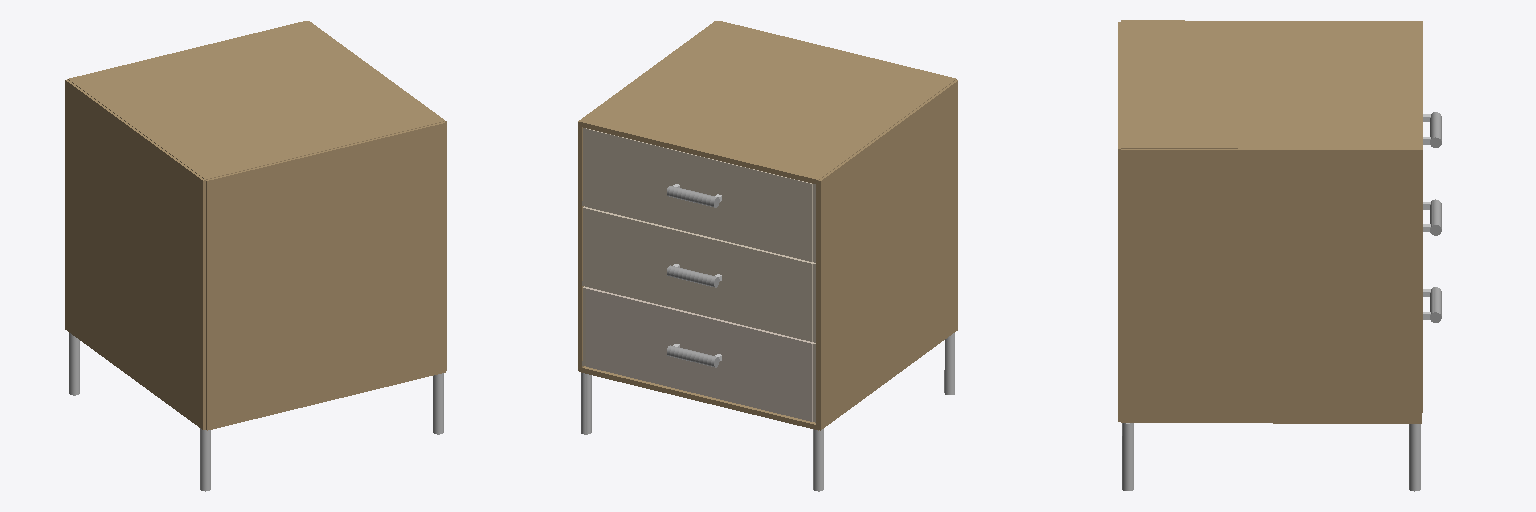
--- What the picture shows (computed from the rendered views, not written in the file) ---
3 views of the same robot in one strip: view 1: azimuth 30°, elevation 25°; view 2: azimuth 150°, elevation 25°; view 3: azimuth 270°, elevation 25° (orthographic).
Robot: drawer_frame — 4 links, 3 joints (3 prismatic); root link robot_base; default pose: all joints at 0.
Visible links, largest first — view 1: robot_base; view 2: robot_base, drawer_bottom, drawer_middle, drawer_top; view 3: robot_base.
Boxes of the visible links, x1,y1,x2,y2 form: robot_base: (65, 21, 446, 491); robot_base: (578, 21, 957, 491); drawer_bottom: (582, 286, 815, 422); drawer_middle: (582, 206, 815, 342); drawer_top: (582, 128, 815, 262); robot_base: (1118, 20, 1422, 491).
Size in the robot's own frame: 0.3826 by 0.4029 by 0.4697 metres.
Geometry: primitives only (box / cylinder / sphere), no mesh files.

The robot description file, URDF, robot "drawer_frame":
<?xml version="1.0"?>
<robot name="drawer_frame">
    <link name="robot_base">
        <visual name="drawer_frame">
            <origin xyz="0.274931 -0.248061 0.463991" rpy="3.141247 3.141965 -3.141592" />
            <geometry>
                <box size="0.375000 0.375000 0.007500" />
            </geometry>
            <material name="robot_base_material">
                <color rgba="0.720000 0.624000 0.480000 1.0" />
            </material>
        </visual>
        <visual name="drawer_frame">
            <origin xyz="0.275069 -0.248189 0.094991" rpy="3.141247 3.141965 -3.141592" />
            <geometry>
                <box size="0.375000 0.375000 0.007500" />
            </geometry>
            <material name="robot_base_material">
                <color rgba="0.720000 0.624000 0.480000 1.0" />
            </material>
        </visual>
        <visual name="drawer_frame">
            <origin xyz="0.087500 -0.248125 0.279421" rpy="0.746314 4.711880 -0.746314" />
            <geometry>
                <box size="0.375000 0.375000 0.007500" />
            </geometry>
            <material name="robot_base_material">
                <color rgba="0.720000 0.624000 0.480000 1.0" />
            </material>
        </visual>
        <visual name="drawer_frame">
            <origin xyz="0.462500 -0.248125 0.279561" rpy="0.746314 4.711880 -0.746314" />
            <geometry>
                <box size="0.375000 0.375000 0.007500" />
            </geometry>
            <material name="robot_base_material">
                <color rgba="0.720000 0.624000 0.480000 1.0" />
            </material>
        </visual>
        <visual name="drawer_frame">
            <origin xyz="0.275000 -0.435625 0.279556" rpy="2.316376 4.711880 -0.745580" />
            <geometry>
                <box size="0.375000 0.375000 0.007500" />
            </geometry>
            <material name="robot_base_material">
                <color rgba="0.720000 0.624000 0.480000 1.0" />
            </material>
        </visual>
        <visual name="drawer_legs">
            <origin xyz="0.458100 -0.427075 0.044959" rpy="-3.141222 3.141912 1.570796" />
            <geometry>
                <cylinder radius="0.0075000002980232" length="0.092999994754791" />
            </geometry>
            <material name="drawer_legs_material">
                <color rgba="0.800000 0.800000 0.800000 1.0" />
            </material>
        </visual>
        <visual name="drawer_legs">
            <origin xyz="0.458108 -0.070082 0.044843" rpy="-3.141222 3.141912 1.570796" />
            <geometry>
                <cylinder radius="0.0075000002980232" length="0.092999994754791" />
            </geometry>
            <material name="drawer_legs_material">
                <color rgba="0.800000 0.800000 0.800000 1.0" />
            </material>
        </visual>
        <visual name="drawer_legs">
            <origin xyz="0.092100 -0.070075 0.044708" rpy="-3.141222 3.141912 1.570796" />
            <geometry>
                <cylinder radius="0.0075000002980232" length="0.092999994754791" />
            </geometry>
            <material name="drawer_legs_material">
                <color rgba="0.800000 0.800000 0.800000 1.0" />
            </material>
        </visual>
        <visual name="drawer_legs">
            <origin xyz="0.092100 -0.427075 0.044823" rpy="-3.141222 3.141912 1.570796" />
            <geometry>
                <cylinder radius="0.0075000002980232" length="0.092999994754791" />
            </geometry>
            <material name="drawer_legs_material">
                <color rgba="0.800000 0.800000 0.800000 1.0" />
            </material>
        </visual>

        <collision name="drawer_frame">
            <origin xyz="0.274931 -0.248061 0.463991" rpy="3.141247 3.141965 -3.141592" />
            <geometry>
                <box size="0.375000 0.375000 0.007500" />
            </geometry>
        </collision>
        <collision name="drawer_frame">
            <origin xyz="0.275069 -0.248189 0.094991" rpy="3.141247 3.141965 -3.141592" />
            <geometry>
                <box size="0.375000 0.375000 0.007500" />
            </geometry>
        </collision>
        <collision name="drawer_frame">
            <origin xyz="0.087500 -0.248125 0.279421" rpy="0.746314 4.711880 -0.746314" />
            <geometry>
                <box size="0.375000 0.375000 0.007500" />
            </geometry>
        </collision>
        <!-- <collision name="drawer_frame">
            <origin xyz="0.462500 -0.248125 0.279561" rpy="0.746314 4.711880 -0.746314" />
            <geometry>
                <box size="0.375000 0.375000 0.007500" />
            </geometry>
        </collision>
        <collision name="drawer_frame">
            <origin xyz="0.275000 -0.435625 0.279556" rpy="2.316376 4.711880 -0.745580" />
            <geometry>
                <box size="0.375000 0.375000 0.007500" />
            </geometry>
        </collision> -->
        <!-- <collision name="drawer_legs">
            <origin xyz="0.458100 -0.427075 0.044959" rpy="-3.141222 3.141912 1.570796" />
            <geometry>
                <cylinder radius="0.0075000002980232" length="0.092999994754791" />
            </geometry>
        </collision> -->
        <!-- <collision name="drawer_legs">
            <origin xyz="0.458108 -0.070082 0.044843" rpy="-3.141222 3.141912 1.570796" />
            <geometry>
                <cylinder radius="0.0075000002980232" length="0.092999994754791" />
            </geometry>
        </collision>
        <collision name="drawer_legs">
            <origin xyz="0.092100 -0.070075 0.044708" rpy="-3.141222 3.141912 1.570796" />
            <geometry>
                <cylinder radius="0.0075000002980232" length="0.092999994754791" />
            </geometry>
        </collision>
        <collision name="drawer_legs">
            <origin xyz="0.092100 -0.427075 0.044823" rpy="-3.141222 3.141912 1.570796" />
            <geometry>
                <cylinder radius="0.0075000002980232" length="0.092999994754791" />
            </geometry>
        </collision> -->
    </link>
    <joint name="drawer_joint_bottom" type="prismatic">
        <axis xyz="0 0 1" />
        <limit effort="112.5" velocity="15.0" lower="0.0" upper="0.30000001192093" />
        <parent link="robot_base" />
        <child link="drawer_bottom" />
        <origin xyz="0.275043 -0.248161 0.124993" rpy="-1.570451 3.141221 -0.000000" />
    </joint>
    <link name="drawer_bottom">
        <inertial>
            <origin rpy="-3.141588 3.141567 -1.570796" xyz="-0.000004 0.011870 0.010526" />
            <inertia ixx="0.011209496066089" ixy="4.0704043961733e-13" ixz="-1.4456290982822e-05" iyz="-2.8206538680196e-12" izz="0.0061737879202848" iyy="0.0059830438703822" />
            <mass value="0.33750000596046" />
        </inertial>
	<!-- <collision name="drawer_bottom">
            <origin xyz="-0.000005 0.036011 -0.164999" rpy="3.141588 3.141618 1.570800" />
            <geometry>
                <box size="0.117600 0.356250 0.007125" />
            </geometry>
        </collision>
        <collision name="drawer_bottom">
            <origin xyz="-0.000004 -0.019484 0.009002" rpy="-1.570771 3.141598 0.000001" />
            <geometry>
                <box size="0.367500 0.356250 0.007125" />
            </geometry>
        </collision>
        <collision name="drawer_bottom">
            <origin xyz="-0.180004 0.036016 0.009001" rpy="-1.570801 3.141618 1.570800" />
            <geometry>
                <box size="0.117600 0.356250 0.007125" />
            </geometry>
        </collision>
        <collision name="drawer_bottom">
            <origin xyz="0.179996 0.036016 0.009000" rpy="-1.570801 3.141618 1.570800" />
            <geometry>
                <box size="0.117600 0.356250 0.007125" />
            </geometry>
        </collision>
        <collision name="drawer_bottom">
            <origin xyz="-0.033003 0.041270 0.193501" rpy="-1.570771 3.141598 0.000001" />
            <geometry>
                <box size="0.007500 0.012000 0.007500" />
            </geometry>
        </collision>
        <collision name="drawer_bottom">
            <origin xyz="-0.000003 0.040521 0.204001" rpy="-1.570791 3.141567 -1.570797" />
            <geometry>
                <cylinder radius="0.0074999998323619" length="0.075000002980232" />
            </geometry>
        </collision>
        <collision name="drawer_bottom">
            <origin xyz="0.032997 0.041270 0.193500" rpy="-1.570771 3.141598 0.000001" />
            <geometry>
                <box size="0.007500 0.012000 0.007500" />
            </geometry>
        </collision>
        <collision name="drawer_bottom">
            <origin xyz="-0.000003 0.036020 0.184500" rpy="3.141588 3.141618 1.570800" />
            <geometry>
                <box size="0.117600 0.356250 0.007125" />
            </geometry>
	</collision> -->
        <visual name="drawer_bottom">
            <origin xyz="-0.000005 0.036011 -0.164999" rpy="3.141588 3.141618 1.570800" />
            <geometry>
                <box size="0.117600 0.356250 0.007125" />
            </geometry>
            <material name="drawer_bottom_material">
                <color rgba="0.860000 0.812000 0.740000 1.0" />
            </material>
        </visual>
        <visual name="drawer_bottom">
            <origin xyz="-0.000004 -0.019484 0.009002" rpy="-1.570771 3.141598 0.000001" />
            <geometry>
                <box size="0.367500 0.356250 0.007125" />
            </geometry>
            <material name="drawer_bottom_material">
                <color rgba="0.860000 0.812000 0.740000 1.0" />
            </material>
        </visual>
        <visual name="drawer_bottom">
            <origin xyz="-0.180004 0.036016 0.009001" rpy="-1.570801 3.141618 1.570800" />
            <geometry>
                <box size="0.117600 0.356250 0.007125" />
            </geometry>
            <material name="drawer_bottom_material">
                <color rgba="0.860000 0.812000 0.740000 1.0" />
            </material>
        </visual>
        <visual name="drawer_bottom">
            <origin xyz="0.179996 0.036016 0.009000" rpy="-1.570801 3.141618 1.570800" />
            <geometry>
                <box size="0.117600 0.356250 0.007125" />
            </geometry>
            <material name="drawer_bottom_material">
                <color rgba="0.860000 0.812000 0.740000 1.0" />
            </material>
        </visual>
        <visual name="drawer_bottom">
            <origin xyz="-0.033003 0.041270 0.193501" rpy="-1.570771 3.141598 0.000001" />
            <geometry>
                <box size="0.007500 0.012000 0.007500" />
            </geometry>
            <material name="drawer_bottom_material">
                <color rgba="0.850000 0.850000 0.850000 1.0" />
            </material>
        </visual>
        <visual name="drawer_bottom">
            <origin xyz="-0.000003 0.040521 0.204001" rpy="-1.570791 3.141567 -1.570797" />
            <geometry>
                <cylinder radius="0.0074999998323619" length="0.075000002980232" />
            </geometry>
            <material name="drawer_bottom_material">
                <color rgba="0.700000 0.700000 0.700000 1.0" />
            </material>
        </visual>
        <visual name="drawer_bottom">
            <origin xyz="0.032997 0.041270 0.193500" rpy="-1.570771 3.141598 0.000001" />
            <geometry>
                <box size="0.007500 0.012000 0.007500" />
            </geometry>
            <material name="drawer_bottom_material">
                <color rgba="0.850000 0.850000 0.850000 1.0" />
            </material>
        </visual>
        <visual name="drawer_bottom">
            <origin xyz="-0.000003 0.036020 0.184500" rpy="3.141588 3.141618 1.570800" />
            <geometry>
                <box size="0.117600 0.356250 0.007125" />
            </geometry>
            <material name="drawer_bottom_material">
                <color rgba="0.860000 0.810000 0.760000 1.0" />
            </material>
        </visual>
    </link>
    <joint name="drawer_joint_middle" type="prismatic">
        <axis xyz="0 0 1" />
        <limit effort="112.5" velocity="15.0" lower="0.0" upper="0.30000001192093" />
        <parent link="robot_base" />
        <child link="drawer_middle" />
        <origin xyz="0.275002 -0.248124 0.243562" rpy="-1.570449 3.141220 -0.000002" />
    </joint>
    <link name="drawer_middle">
        <inertial>
            <origin rpy="-3.141580 3.141567 -1.570795" xyz="-0.000007 0.013365 0.010518" />
            <inertia ixx="0.011209496066089" ixy="4.0704043961733e-13" ixz="-1.4456290982822e-05" iyz="-2.8206538680196e-12" izz="0.0061737879202848" iyy="0.0059830438703822" />
            <mass value="0.33750000596046" />
        </inertial>
	<!-- <collision name="drawer_middle">
            <origin xyz="-0.000009 0.037507 -0.165007" rpy="3.141580 3.141618 1.570800" />
            <geometry>
                <box size="0.117600 0.356250 0.007125" />
            </geometry>
        </collision>
        <collision name="drawer_middle">
            <origin xyz="-0.000007 -0.017989 0.008994" rpy="-1.570771 3.141605 0.000001" />
            <geometry>
                <box size="0.367500 0.356250 0.007125" />
            </geometry>
        </collision>
        <collision name="drawer_middle">
            <origin xyz="-0.180007 0.037511 0.008995" rpy="-1.570809 3.141618 1.570800" />
            <geometry>
                <box size="0.117600 0.356250 0.007125" />
            </geometry>
        </collision>
        <collision name="drawer_middle">
            <origin xyz="0.179993 0.037511 0.008990" rpy="-1.570809 3.141618 1.570800" />
            <geometry>
                <box size="0.117600 0.356250 0.007125" />
            </geometry>
        </collision>
        <collision name="drawer_middle">
            <origin xyz="-0.033004 0.042766 0.193493" rpy="-1.570771 3.141605 0.000001" />
            <geometry>
                <box size="0.007500 0.012000 0.007500" />
            </geometry>
        </collision>
        <collision name="drawer_middle">
            <origin xyz="-0.000004 0.042016 0.203993" rpy="-1.570784 3.141567 -1.570797" />
            <geometry>
                <cylinder radius="0.0074999998323619" length="0.075000002980232" />
            </geometry>
        </collision>
        <collision name="drawer_middle">
            <origin xyz="0.032995 0.042766 0.193492" rpy="-1.570771 3.141605 0.000001" />
            <geometry>
                <box size="0.007500 0.012000 0.007500" />
            </geometry>
        </collision>
        <collision name="drawer_middle">
            <origin xyz="-0.000005 0.037516 0.184492" rpy="3.141580 3.141618 1.570800" />
            <geometry>
                <box size="0.117600 0.356250 0.007125" />
            </geometry>
	</collision> -->
        <visual name="drawer_middle">
            <origin xyz="-0.000009 0.037507 -0.165007" rpy="3.141580 3.141618 1.570800" />
            <geometry>
                <box size="0.117600 0.356250 0.007125" />
            </geometry>
            <material name="drawer_middle_material">
                <color rgba="0.860000 0.812000 0.740000 1.0" />
            </material>
        </visual>
        <visual name="drawer_middle">
            <origin xyz="-0.000007 -0.017989 0.008994" rpy="-1.570771 3.141605 0.000001" />
            <geometry>
                <box size="0.367500 0.356250 0.007125" />
            </geometry>
            <material name="drawer_middle_material">
                <color rgba="0.860000 0.812000 0.740000 1.0" />
            </material>
        </visual>
        <visual name="drawer_middle">
            <origin xyz="-0.180007 0.037511 0.008995" rpy="-1.570809 3.141618 1.570800" />
            <geometry>
                <box size="0.117600 0.356250 0.007125" />
            </geometry>
            <material name="drawer_middle_material">
                <color rgba="0.860000 0.812000 0.740000 1.0" />
            </material>
        </visual>
        <visual name="drawer_middle">
            <origin xyz="0.179993 0.037511 0.008990" rpy="-1.570809 3.141618 1.570800" />
            <geometry>
                <box size="0.117600 0.356250 0.007125" />
            </geometry>
            <material name="drawer_middle_material">
                <color rgba="0.860000 0.812000 0.740000 1.0" />
            </material>
        </visual>
        <visual name="drawer_middle">
            <origin xyz="-0.033004 0.042766 0.193493" rpy="-1.570771 3.141605 0.000001" />
            <geometry>
                <box size="0.007500 0.012000 0.007500" />
            </geometry>
            <material name="drawer_middle_material">
                <color rgba="0.850000 0.850000 0.850000 1.0" />
            </material>
        </visual>
        <visual name="drawer_middle">
            <origin xyz="-0.000004 0.042016 0.203993" rpy="-1.570784 3.141567 -1.570797" />
            <geometry>
                <cylinder radius="0.0074999998323619" length="0.075000002980232" />
            </geometry>
            <material name="drawer_middle_material">
                <color rgba="0.700000 0.700000 0.700000 1.0" />
            </material>
        </visual>
        <visual name="drawer_middle">
            <origin xyz="0.032995 0.042766 0.193492" rpy="-1.570771 3.141605 0.000001" />
            <geometry>
                <box size="0.007500 0.012000 0.007500" />
            </geometry>
            <material name="drawer_middle_material">
                <color rgba="0.850000 0.850000 0.850000 1.0" />
            </material>
        </visual>
        <visual name="drawer_middle">
            <origin xyz="-0.000005 0.037516 0.184492" rpy="3.141580 3.141618 1.570800" />
            <geometry>
                <box size="0.117600 0.356250 0.007125" />
            </geometry>
            <material name="drawer_middle_material">
                <color rgba="0.860000 0.812000 0.740000 1.0" />
            </material>
        </visual>
    </link>
    <joint name="drawer_joint_top" type="prismatic">
        <axis xyz="0 0 1" />
        <limit effort="50" velocity="3.0" lower="0.0" upper="0.30000001192093" />
        <parent link="robot_base" />
        <child link="drawer_top" />
        <origin xyz="0.274961 -0.248090 0.365083" rpy="-1.570445 3.141215 -0.000006" />
    </joint>
    <link name="drawer_top">
        <inertial>
            <origin rpy="-3.141587 3.141568 -1.570795" xyz="-0.000004 0.011870 0.010526" />
            <inertia ixx="0.011209496066089" ixy="4.0704043961733e-13" ixz="-1.4456290982822e-05" iyz="-2.8206538680196e-12" izz="0.0061737879202848" iyy="0.0059830438703822" />
            <mass value="0.33750000596046" />
        </inertial>
        <collision name="drawer_top">
            <origin xyz="-0.000005 0.036011 -0.164999" rpy="3.141588 3.141618 1.570800" />
            <geometry>
                <box size="0.117600 0.356250 0.007125" />
            </geometry>
        </collision>
        <collision name="drawer_top">
            <origin xyz="-0.000004 -0.019484 0.009002" rpy="-1.570771 3.141598 0.000001" />
            <geometry>
                <box size="0.367500 0.356250 0.007125" />
            </geometry>
        </collision>
        <collision name="drawer_top">
            <origin xyz="-0.180004 0.036016 0.009001" rpy="-1.570802 3.141618 1.570800" />
            <geometry>
                <box size="0.117600 0.356250 0.007125" />
            </geometry>
        </collision>
        <collision name="drawer_top">
            <origin xyz="0.179996 0.036016 0.009000" rpy="-1.570802 3.141618 1.570800" />
            <geometry>
                <box size="0.117600 0.356250 0.007125" />
            </geometry>
        </collision>
        <collision name="drawer_top">
            <origin xyz="-0.033003 0.041270 0.193501" rpy="-1.570771 3.141598 0.000001" />
            <geometry>
                <box size="0.007500 0.012000 0.007500" />
            </geometry>
        </collision>
        <collision name="drawer_top">
            <origin xyz="-0.000003 0.040521 0.204001" rpy="-1.570791 3.141568 -1.570796" />
            <geometry>
                <cylinder radius="0.0074999998323619" length="0.075000002980232" />
            </geometry>
        </collision>
        <collision name="drawer_top">
            <origin xyz="0.032997 0.041271 0.193500" rpy="-1.570771 3.141598 0.000001" />
            <geometry>
                <box size="0.007500 0.012000 0.007500" />
            </geometry>
        </collision>
        <collision name="drawer_top">
            <origin xyz="-0.000003 0.036020 0.184500" rpy="3.141588 3.141618 1.570800" />
            <geometry>
                <box size="0.117600 0.356250 0.007125" />
            </geometry>
        </collision>
        <visual name="drawer_top">
            <origin xyz="-0.000005 0.036011 -0.164999" rpy="3.141588 3.141618 1.570800" />
            <geometry>
                <box size="0.117600 0.356250 0.007125" />
            </geometry>
            <material name="drawer_top_material">
                <color rgba="0.860000 0.812000 0.740000 1.0" />
            </material>
        </visual>
        <visual name="drawer_top">
            <origin xyz="-0.000004 -0.019484 0.009002" rpy="-1.570771 3.141598 0.000001" />
            <geometry>
                <box size="0.367500 0.356250 0.007125" />
            </geometry>
            <material name="drawer_top_material">
                <color rgba="0.860000 0.812000 0.740000 1.0" />
            </material>
        </visual>
        <visual name="drawer_top">
            <origin xyz="-0.180004 0.036016 0.009001" rpy="-1.570802 3.141618 1.570800" />
            <geometry>
                <box size="0.117600 0.356250 0.007125" />
            </geometry>
            <material name="drawer_top_material">
                <color rgba="0.860000 0.812000 0.740000 1.0" />
            </material>
        </visual>
        <visual name="drawer_top">
            <origin xyz="0.179996 0.036016 0.009000" rpy="-1.570802 3.141618 1.570800" />
            <geometry>
                <box size="0.117600 0.356250 0.007125" />
            </geometry>
            <material name="drawer_top_material">
                <color rgba="0.860000 0.812000 0.740000 1.0" />
            </material>
        </visual>
        <visual name="drawer_top">
            <origin xyz="-0.033003 0.041270 0.193501" rpy="-1.570771 3.141598 0.000001" />
            <geometry>
                <box size="0.007500 0.012000 0.007500" />
            </geometry>
            <material name="drawer_top_material">
                <color rgba="0.850000 0.850000 0.850000 1.0" />
            </material>
        </visual>
        <visual name="drawer_top">
            <origin xyz="-0.000003 0.040521 0.204001" rpy="-1.570791 3.141568 -1.570796" />
            <geometry>
                <cylinder radius="0.0074999998323619" length="0.075000002980232" />
            </geometry>
            <material name="drawer_top_material">
                <color rgba="0.700000 0.700000 0.700000 1.0" />
            </material>
        </visual>
        <visual name="drawer_top">
            <origin xyz="0.032997 0.041271 0.193500" rpy="-1.570771 3.141598 0.000001" />
            <geometry>
                <box size="0.007500 0.012000 0.007500" />
            </geometry>
            <material name="drawer_top_material">
                <color rgba="0.850000 0.850000 0.850000 1.0" />
            </material>
        </visual>
        <visual name="drawer_top">
            <origin xyz="-0.000003 0.036020 0.184500" rpy="3.141588 3.141618 1.570800" />
            <geometry>
                <box size="0.117600 0.356250 0.007125" />
            </geometry>
            <material name="drawer_top_material">
                <color rgba="0.860000 0.812000 0.740000 1.0" />
            </material>
        </visual>
    </link>
</robot>
